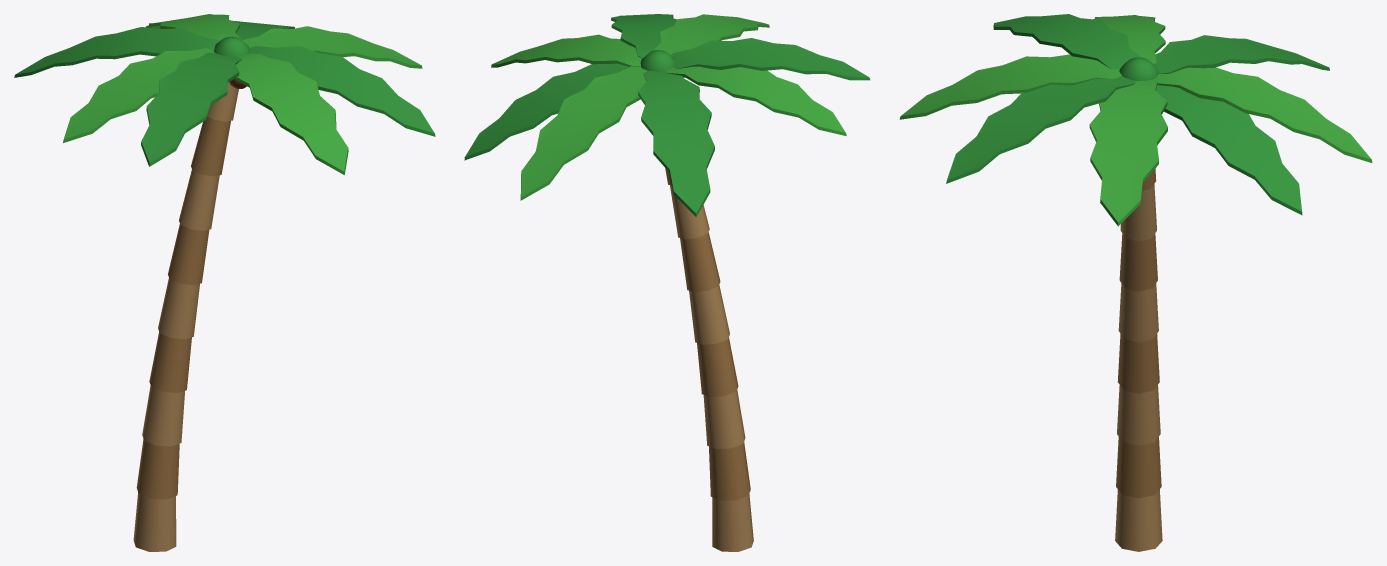
File: tropic-deco1.glb
The picture shows the model from 3 angles, left to right: view 1: azimuth 30°, elevation 25°; view 2: azimuth 150°, elevation 25°; view 3: azimuth 270°, elevation 25°; orthographic projection. The views are drawn at different scales.
Visible parts, largest first — view 1: tropic-deco1; view 2: tropic-deco1; view 3: tropic-deco1.
Boxes of the visible parts, <box> form: tropic-deco1: <box>14,14,435,551</box>; tropic-deco1: <box>464,14,870,551</box>; tropic-deco1: <box>899,14,1372,551</box>.
Bounding box in the file's own units: 3.31 × 4.25 × 3.48.
